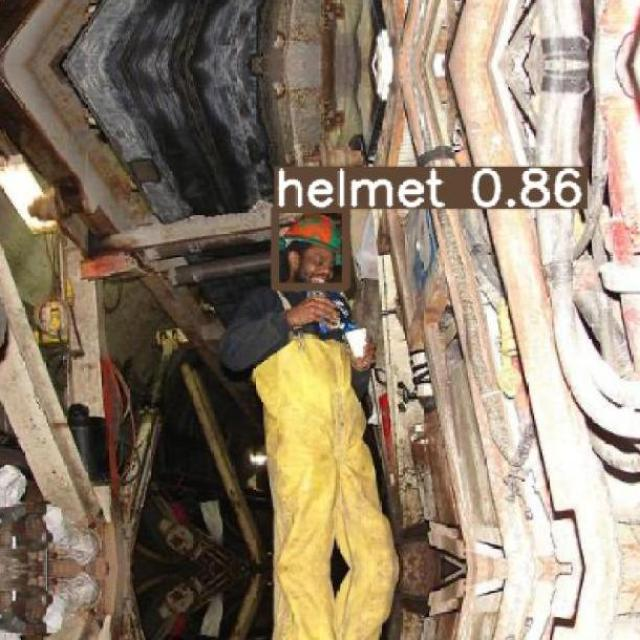red helmet: (280, 212, 354, 260)
